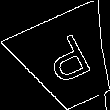P_SE: (38, 30, 97, 91)
